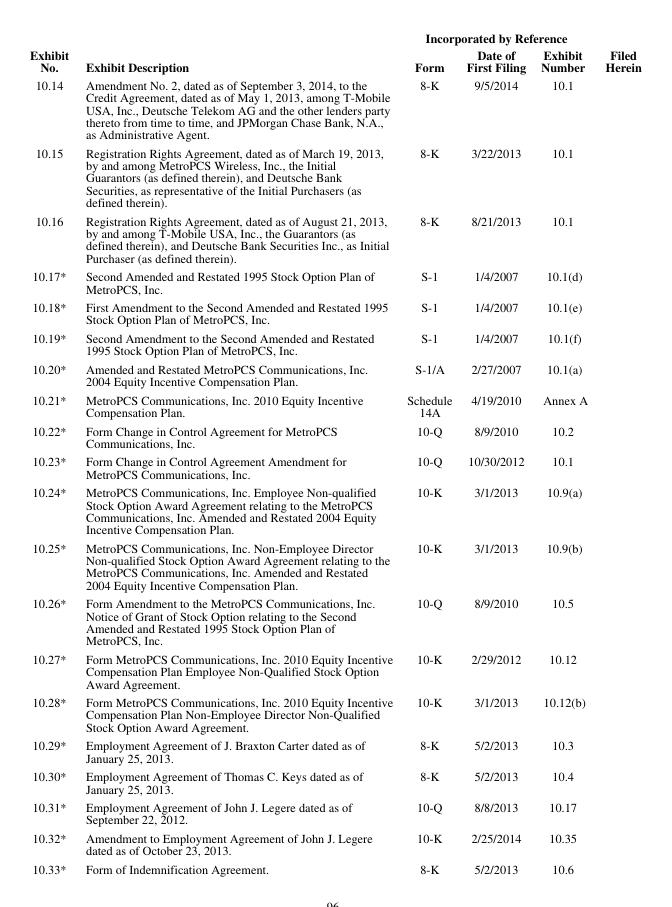table: (28, 28, 640, 876)
table column: (76, 28, 399, 876), (458, 28, 532, 876), (532, 28, 595, 876), (399, 28, 458, 876), (28, 28, 76, 876), (595, 28, 640, 876)
table column header: (28, 28, 640, 75)
table row: (28, 142, 640, 210), (28, 75, 640, 142), (28, 210, 640, 266), (28, 537, 640, 593), (28, 482, 640, 537), (28, 593, 640, 648), (28, 648, 640, 692), (28, 692, 640, 735), (28, 266, 640, 297), (28, 327, 640, 358), (28, 358, 640, 389), (28, 389, 640, 420), (28, 420, 640, 451), (28, 451, 640, 482), (28, 735, 640, 766), (28, 766, 640, 797), (28, 827, 640, 858), (28, 297, 640, 327), (28, 797, 640, 827), (28, 46, 640, 75), (28, 28, 640, 46), (28, 858, 640, 876)
table spanning cell: (76, 28, 399, 75), (399, 28, 595, 46), (28, 28, 76, 75), (595, 28, 640, 75)
